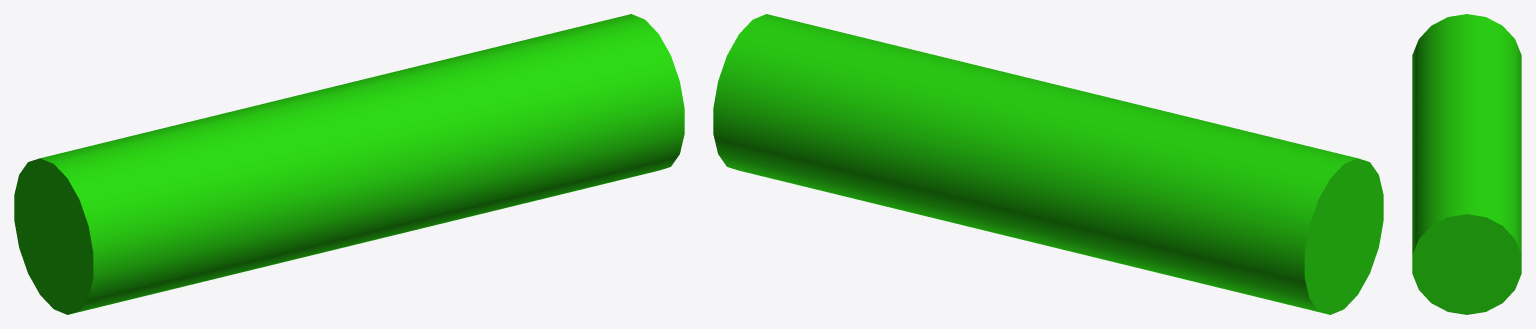
The model's file is Bollot_Green.FBX.
3 renders of one model, left to right at view 1: azimuth 30°, elevation 25°; view 2: azimuth 150°, elevation 25°; view 3: azimuth 270°, elevation 25°, orthographic. The views are drawn at different scales.
Visible parts, largest first — view 1: Cylinder001; view 2: Cylinder001; view 3: Cylinder001.
Boxes of the visible parts, x1,y1,x2,y2 form: Cylinder001: (14,14,684,314); Cylinder001: (713,14,1383,314); Cylinder001: (1412,14,1521,314).
Size of the model in its own units: 1234 by 290 by 286.
